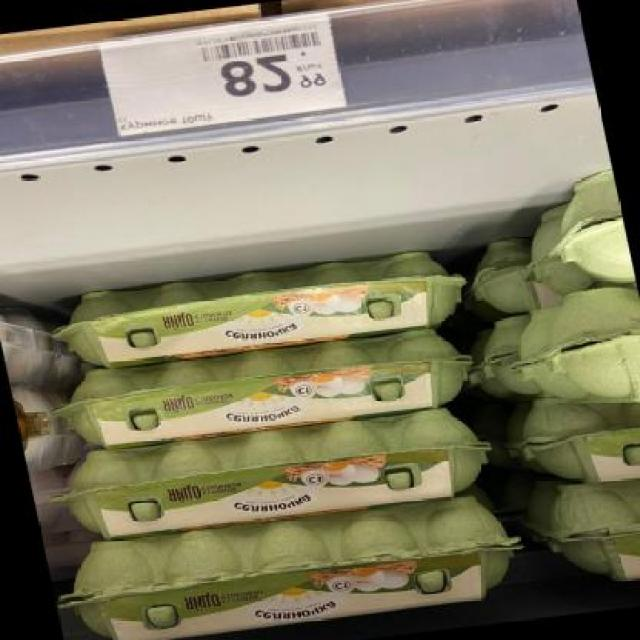Egg: (44, 495, 534, 639), (48, 408, 500, 544), (52, 324, 482, 458), (47, 242, 476, 376), (512, 288, 639, 420), (527, 464, 639, 598), (508, 392, 640, 496)
